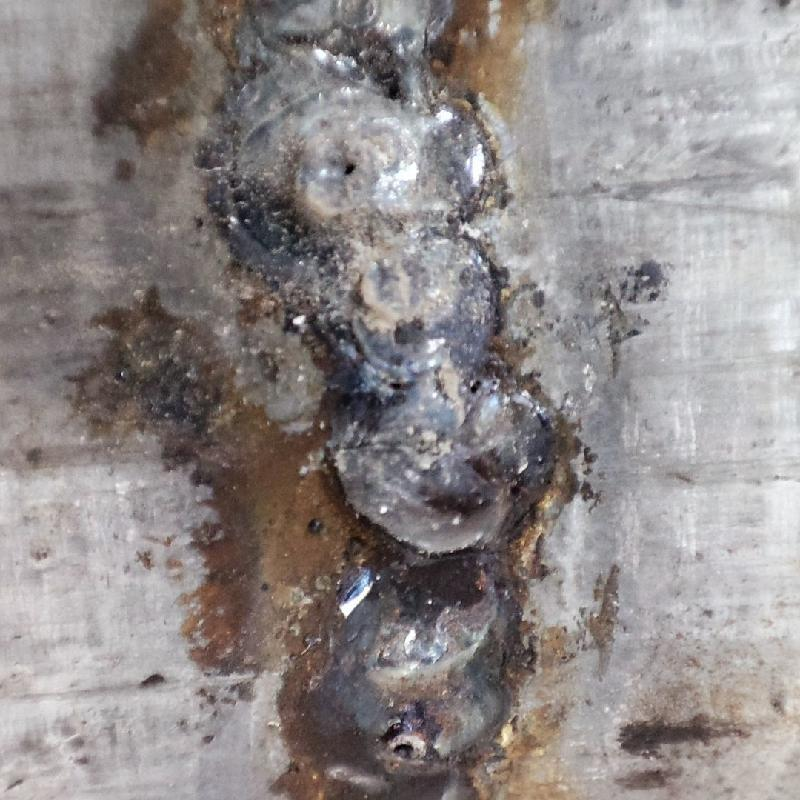Not_fully_soldered: (218, 7, 496, 533)
Surface_pores: (316, 130, 383, 200)
